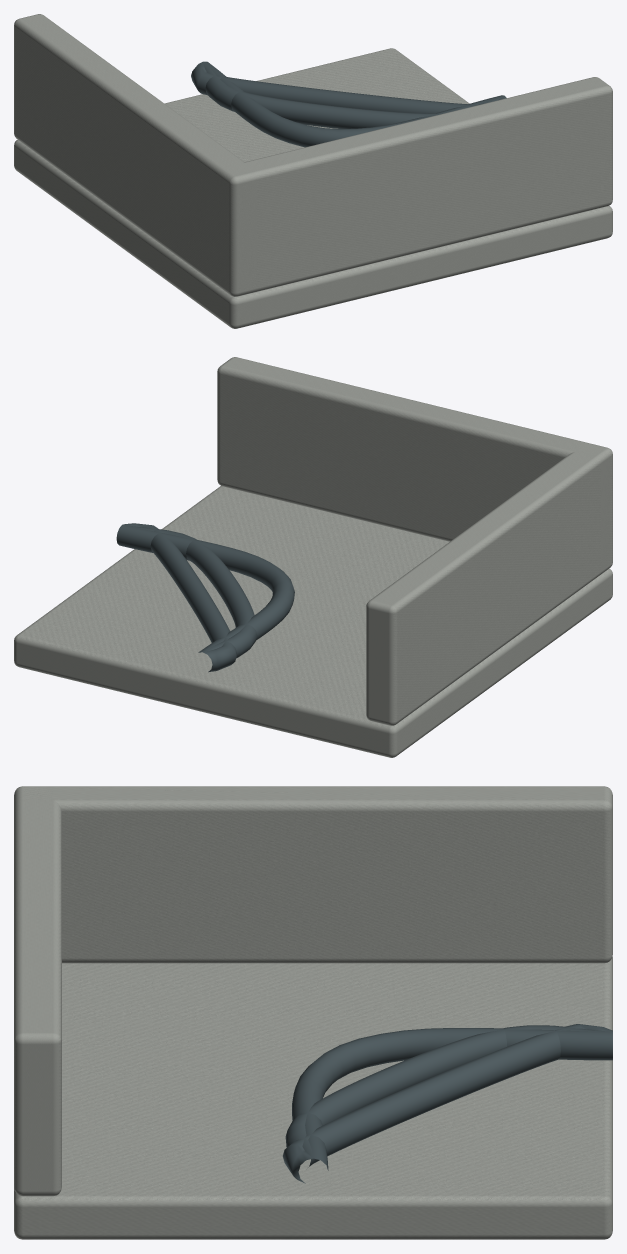
File: hydroelectric-dam-infiltration-cable-trench-corner-151df6cb__29353.glb
3 renders of one model, top to bottom at view 1: azimuth 30°, elevation 25°; view 2: azimuth 150°, elevation 25°; view 3: azimuth 270°, elevation 25°, orthographic. The views are drawn at different scales.
Parts seen in each view (by area): view 1: cable-trench-corner; view 2: cable-trench-corner; view 3: cable-trench-corner.
Boxes of the visible parts, x1=… form: cable-trench-corner: x1=14, y1=14, x2=612, y2=328; cable-trench-corner: x1=14, y1=357, x2=612, y2=757; cable-trench-corner: x1=14, y1=786, x2=612, y2=1239.
Bounding box in the file's own units: 1 × 0.38 × 1.
Materials: 2 (1 with a texture image).
